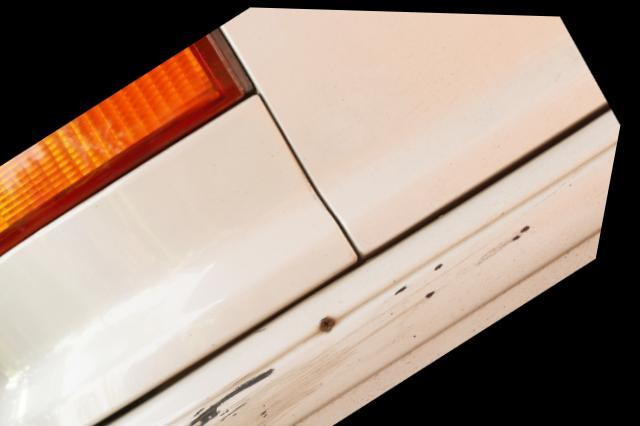scratch: (166, 210, 546, 426)
